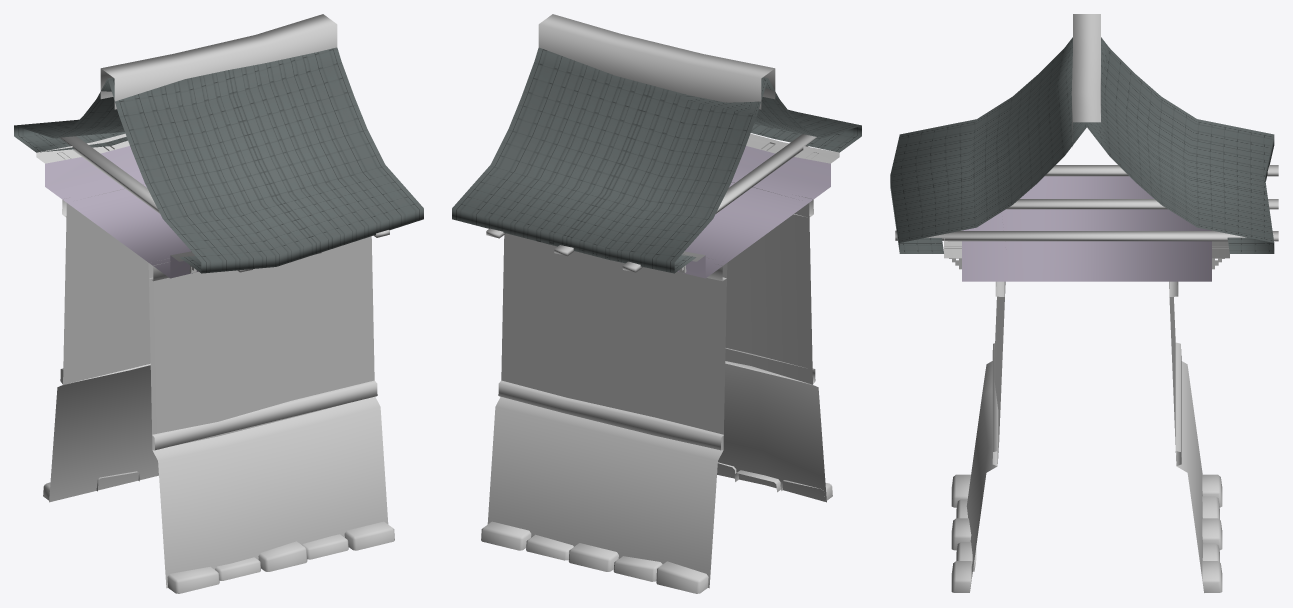
The model's file is Wall_1_2.fbx.
3 views of the same model, side by side, from view 1: azimuth 30°, elevation 25°; view 2: azimuth 150°, elevation 25°; view 3: azimuth 270°, elevation 25° (orthographic).
Visible parts, largest first — view 1: Wall_1_2; view 2: Wall_1_2; view 3: Wall_1_2.
Boxes of the visible parts, <box> form: Wall_1_2: <box>14,14,423,593</box>; Wall_1_2: <box>452,14,861,593</box>; Wall_1_2: <box>890,14,1278,592</box>.
Bounding box in the file's own units: 4 × 8.11 × 6.05.
